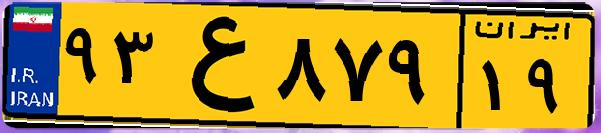1: (475, 38, 525, 113)
3: (110, 28, 158, 98)
7: (330, 28, 385, 110)
8: (270, 28, 330, 110)
9: (385, 28, 445, 110), (57, 26, 110, 100), (525, 38, 570, 115)
ع: (158, 12, 270, 120)
